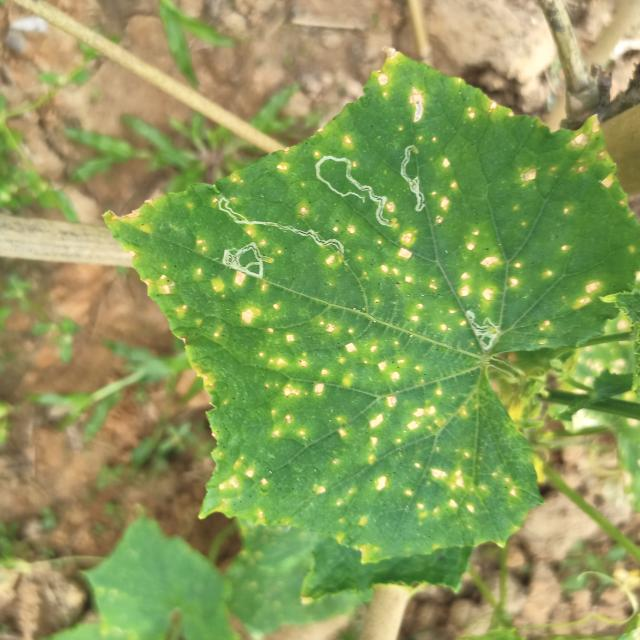disease_cucumber: (181, 64, 607, 338), (125, 273, 525, 543)
